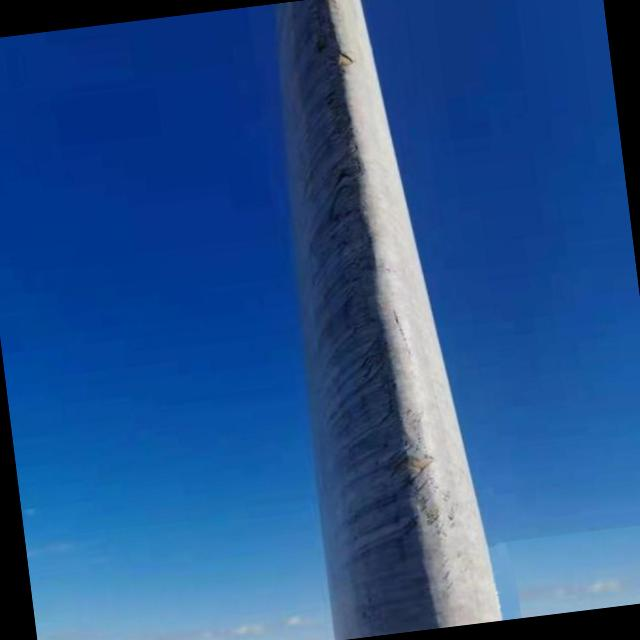corrosion: (295, 0, 462, 581)
